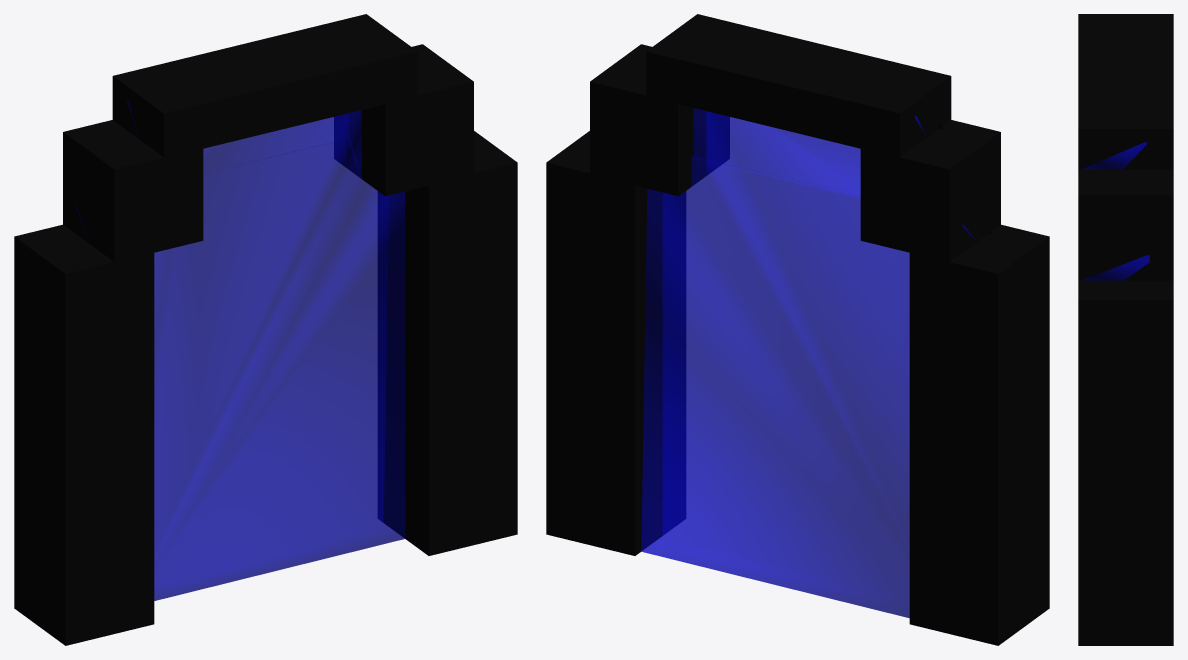
Rendered from Portal.fbx.
3 views of the same model, side by side, from view 1: azimuth 30°, elevation 25°; view 2: azimuth 150°, elevation 25°; view 3: azimuth 270°, elevation 25° (orthographic). The views are drawn at different scales.
Visible parts, largest first — view 1: PortalGate; view 2: PortalGate; view 3: PortalGate.
Part boxes in pixels (x1=…): PortalGate: x1=14, y1=14, x2=517, y2=645; PortalGate: x1=546, y1=14, x2=1049, y2=645; PortalGate: x1=1078, y1=14, x2=1173, y2=645.
Bounding box in the file's own units: 254 × 273 × 50.
